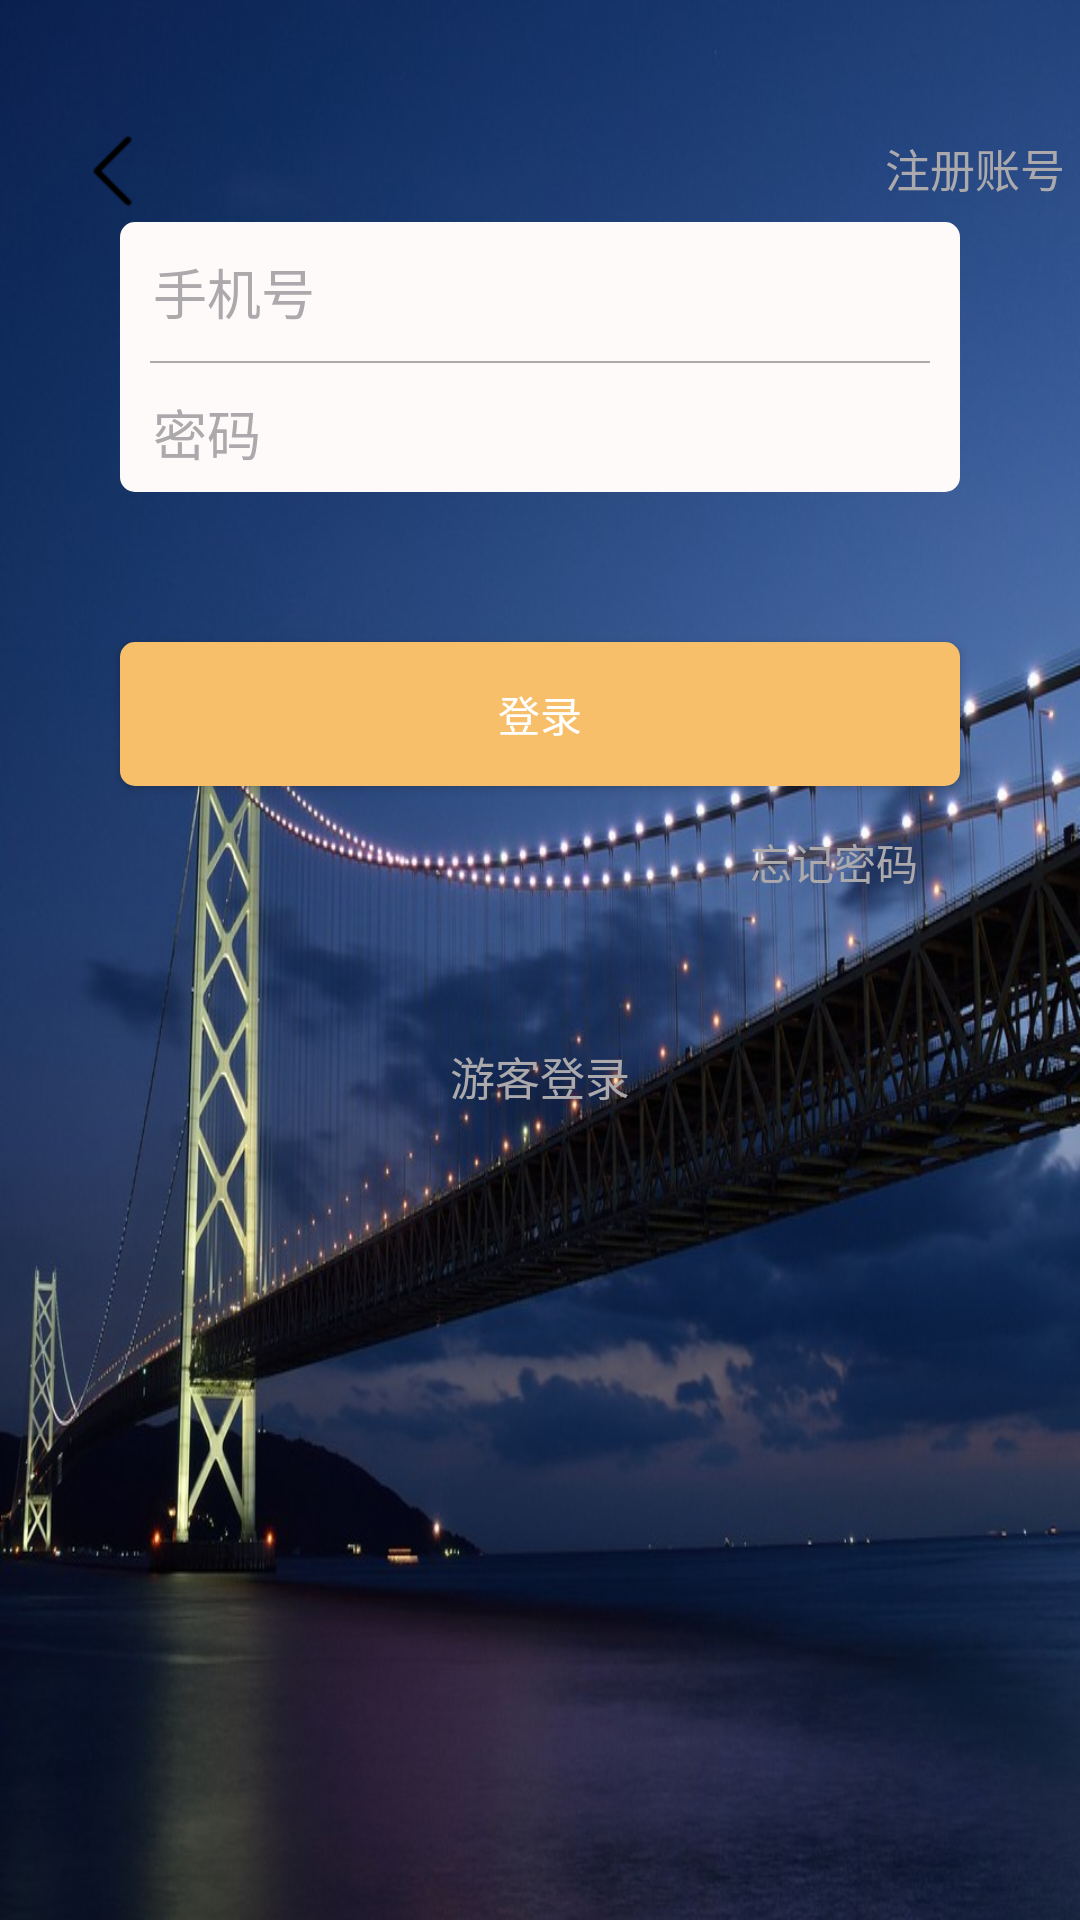

Point at icon controls on the screen. Image size 1080x1920, points as (x,y).
zuojiantou: (112,171)
